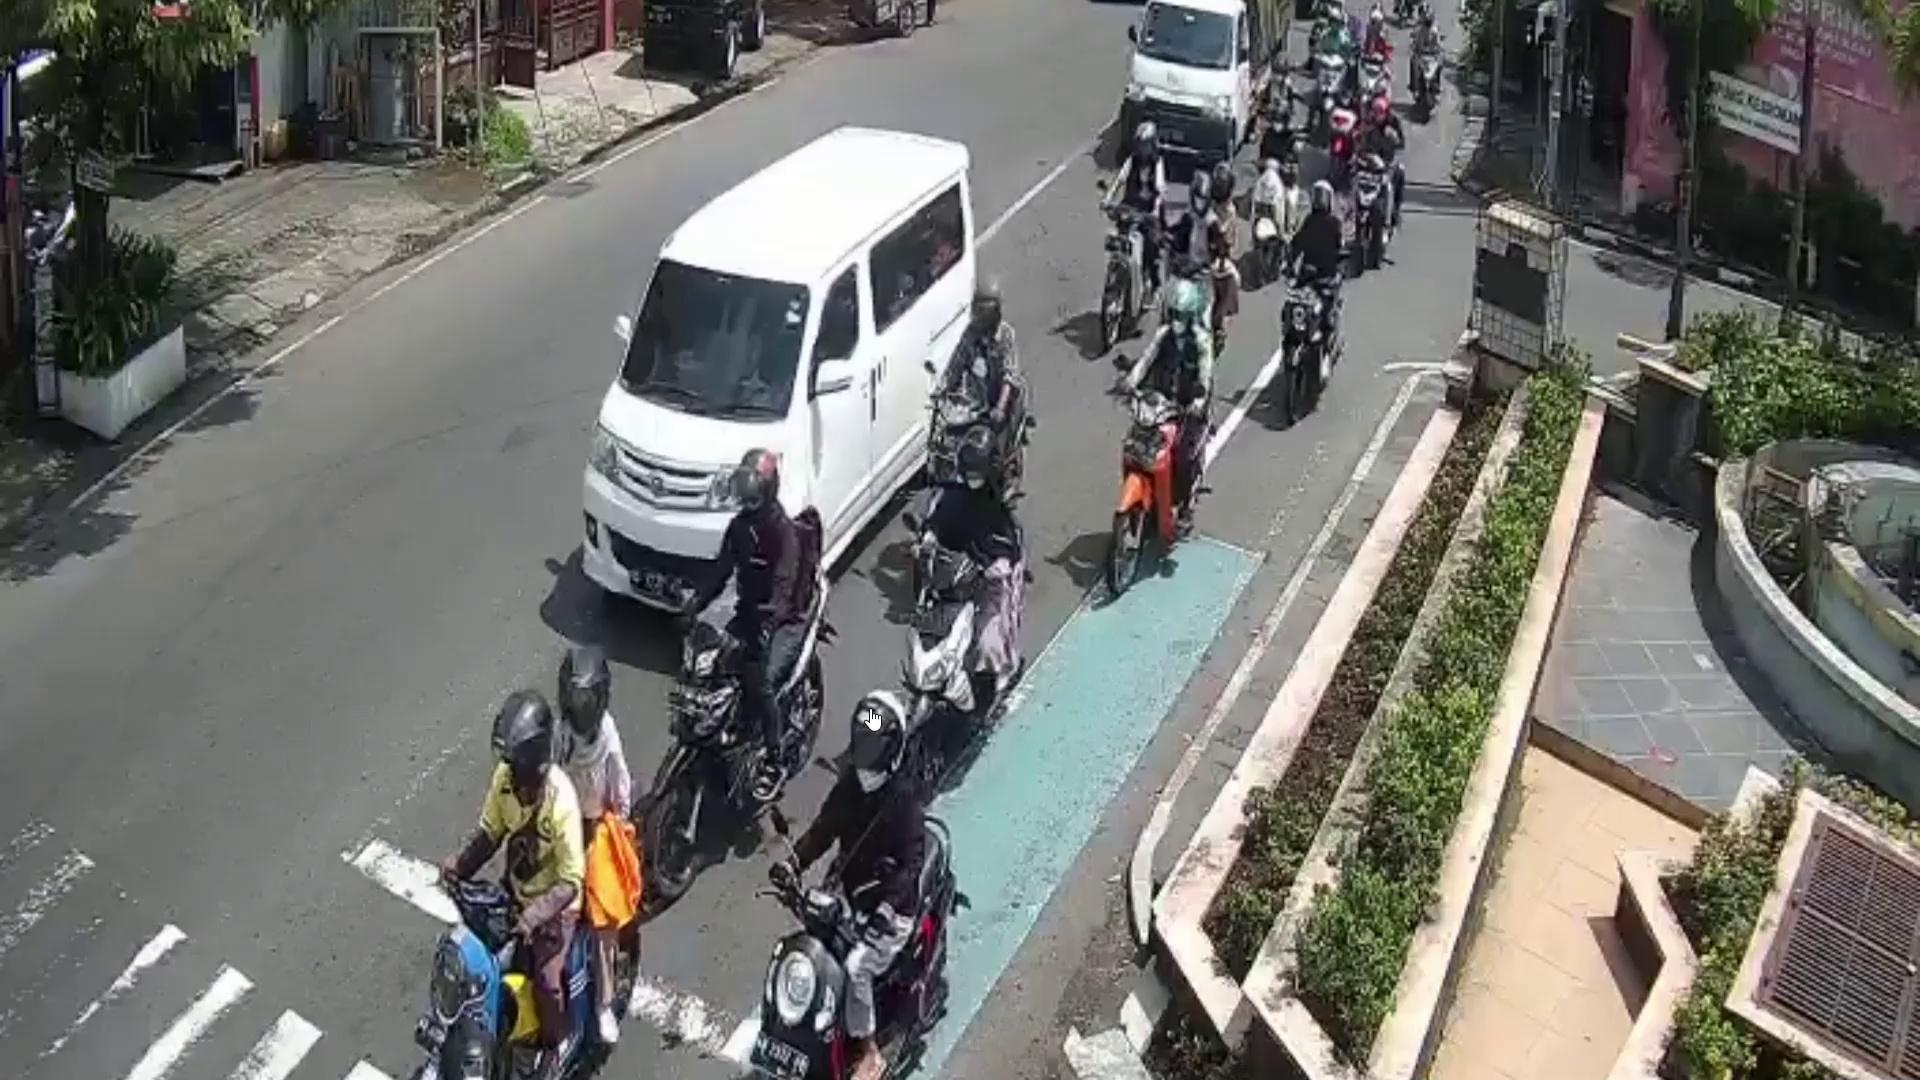car: (579, 124, 1001, 615), (1122, 0, 1274, 160)
motorbike: (644, 564, 832, 903), (742, 816, 957, 1080), (423, 877, 642, 1080), (906, 518, 1029, 771), (1109, 388, 1180, 588), (932, 380, 1029, 504), (1095, 196, 1149, 345), (1287, 270, 1324, 425)
